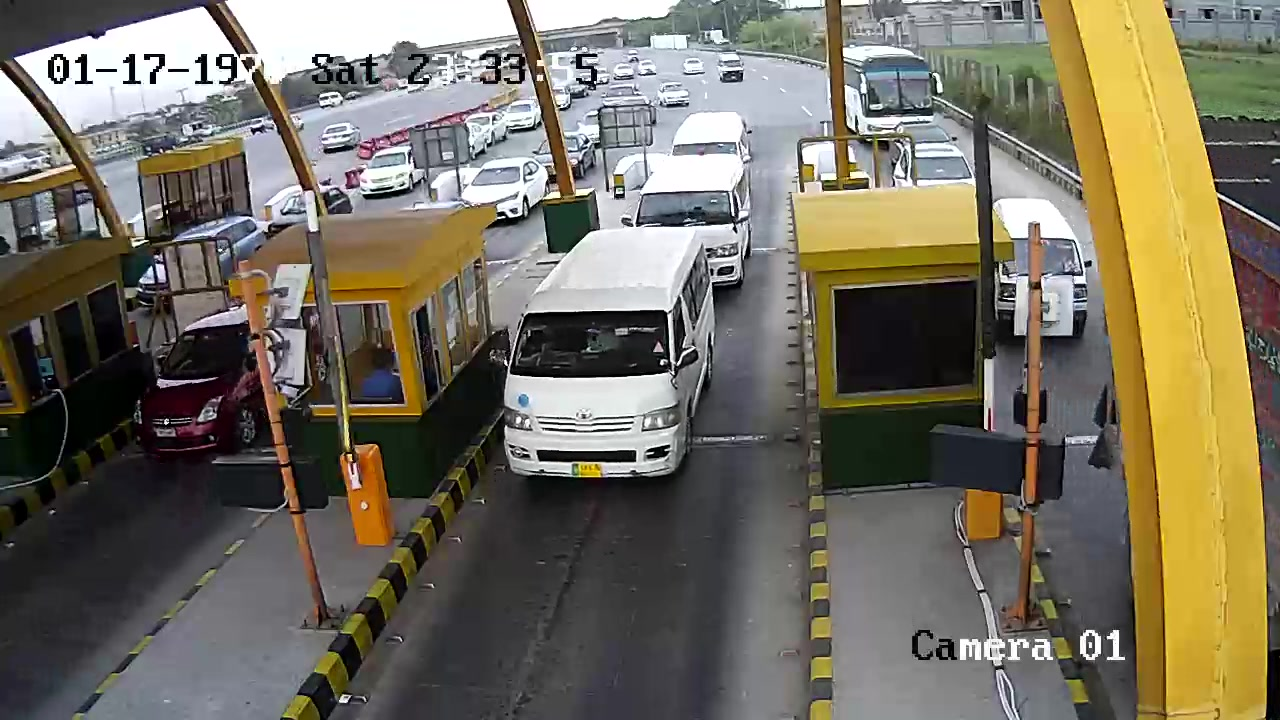F3: (506, 227, 711, 481)
